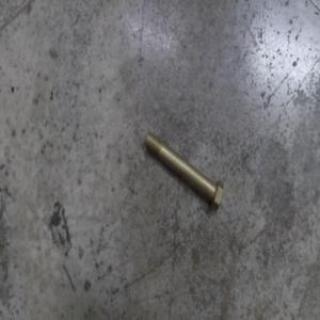Bolttrack_idkeyframe: (144, 128, 223, 214)
